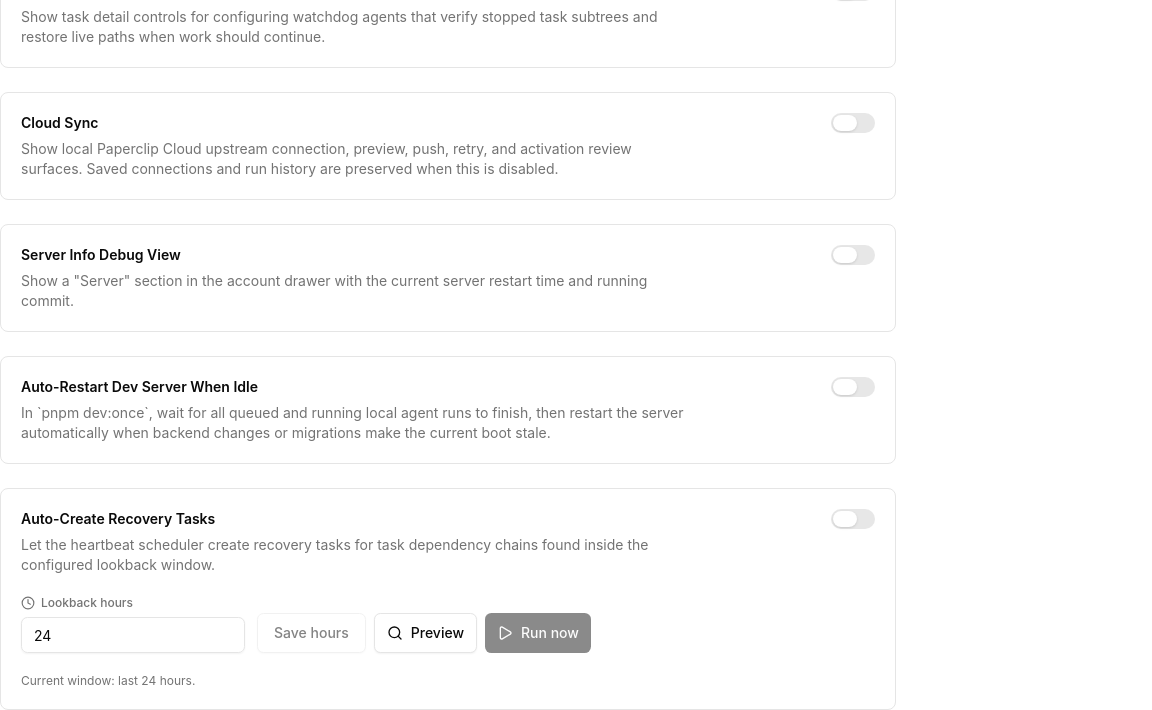
InstanceExperimentalSettings — Conference Room Chat card (PAP-11233) › removes the auto-recovery confirmation overlay after enabling only
(page scrolled)
What coordinates should you click on to do the following:
click the switch named "Toggle task graph liveness auto-recovery"
I would click on:
 (853, 519)
Its box is [831,509,875,529].
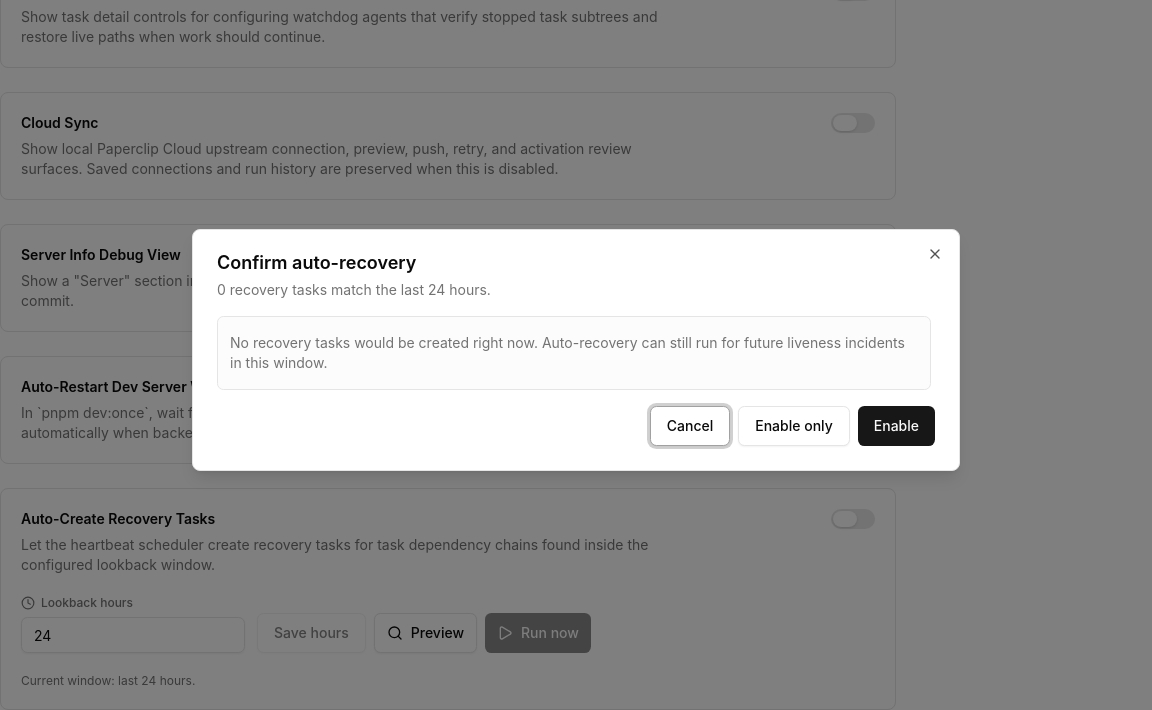
Check: the text "Confirm auto-recovery" is shown, box [217,252,416,273]
What coordinates should you click on to do the following:
click the button "Enable only"
I would click on:
 (794, 426)
Its box is [738,406,850,446].
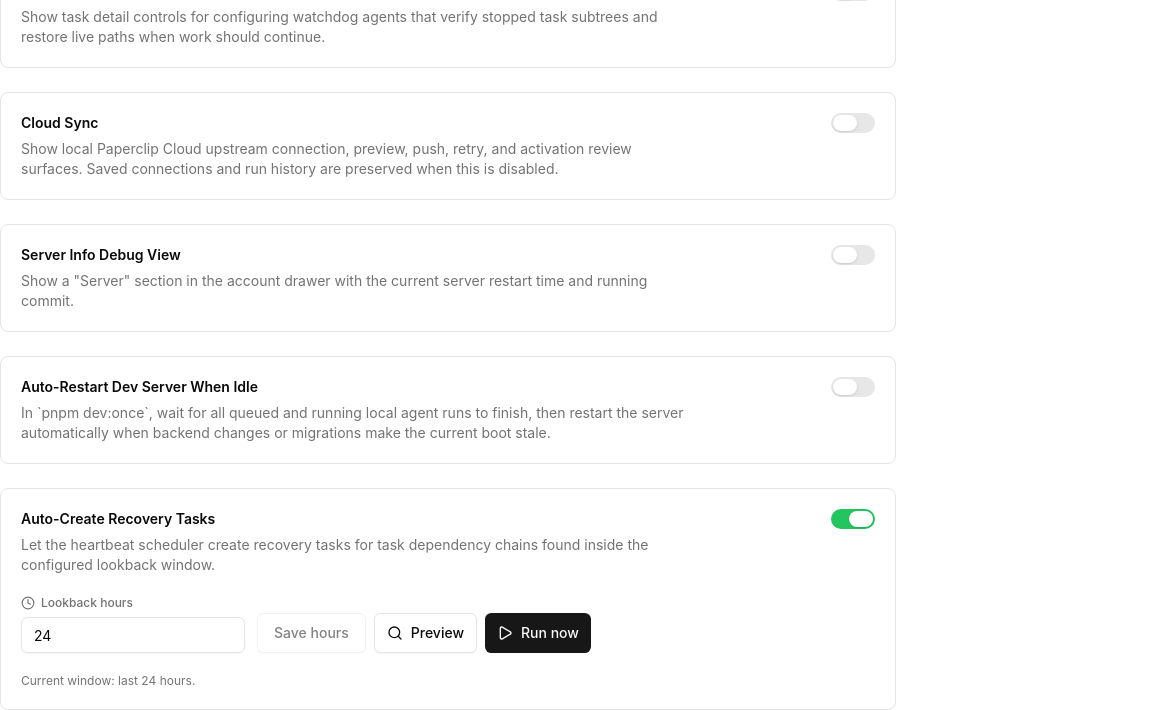
Check: the text "Confirm auto-recovery" is gone
